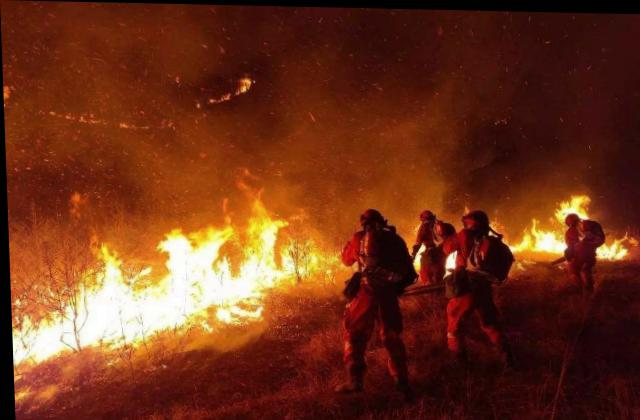fire: (10, 194, 311, 368), (506, 190, 631, 254)
